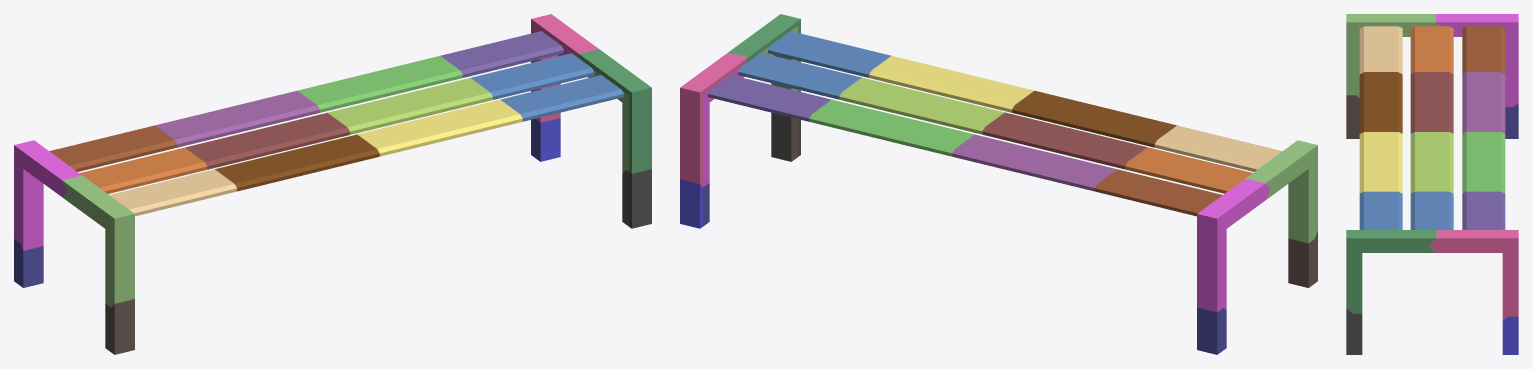
Rendered from street_furniture_outside_bench_2.fbx.
3 views of the same model, side by side, from view 1: azimuth 30°, elevation 25°; view 2: azimuth 150°, elevation 25°; view 3: azimuth 270°, elevation 25° (orthographic). The views are drawn at different scales.
Visible parts, largest first — view 1: bench_2; view 2: bench_2; view 3: bench_2.
Boxes of the visible parts, bbox=[...] form: bench_2: bbox=[14, 14, 651, 354]; bench_2: bbox=[680, 14, 1317, 354]; bench_2: bbox=[1346, 14, 1518, 354].
Bounding box in the file's own units: 146 × 35.43 × 47.47.
